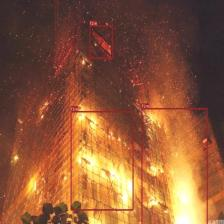fire: (141, 107, 207, 224), (70, 111, 134, 210), (89, 25, 113, 58)
